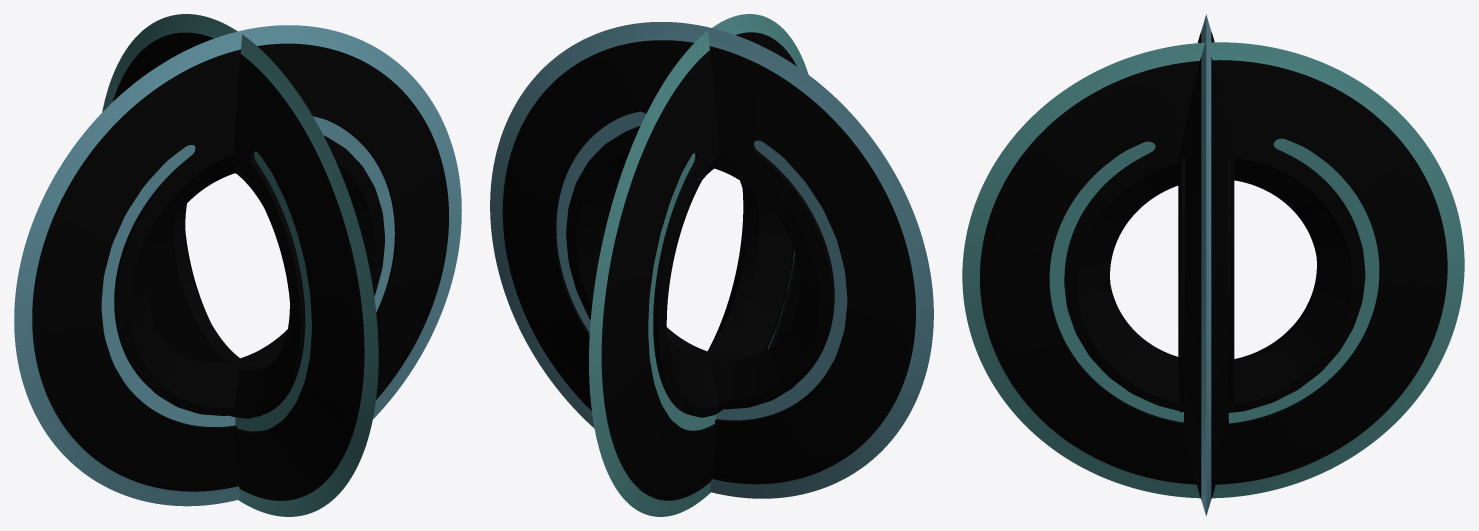
3 renders of one model, left to right at view 1: azimuth 30°, elevation 25°; view 2: azimuth 150°, elevation 25°; view 3: azimuth 270°, elevation 25°, orthographic. The views are drawn at different scales.
Parts seen in each view (by area): view 1: Blue_Identity_Disc, Blue_Identity_Disc.001; view 2: Blue_Identity_Disc, Blue_Identity_Disc.001; view 3: Blue_Identity_Disc.001, Blue_Identity_Disc.
Boxes of the visible parts, <box> form: Blue_Identity_Disc: <box>14,25,461,506</box>; Blue_Identity_Disc.001: <box>102,14,378,516</box>; Blue_Identity_Disc: <box>490,22,933,498</box>; Blue_Identity_Disc.001: <box>589,14,808,516</box>; Blue_Identity_Disc.001: <box>962,42,1464,498</box>; Blue_Identity_Disc: <box>1178,14,1234,516</box>.
Bounding box in the file's own units: 0.5408 × 0.5447 × 0.54.
